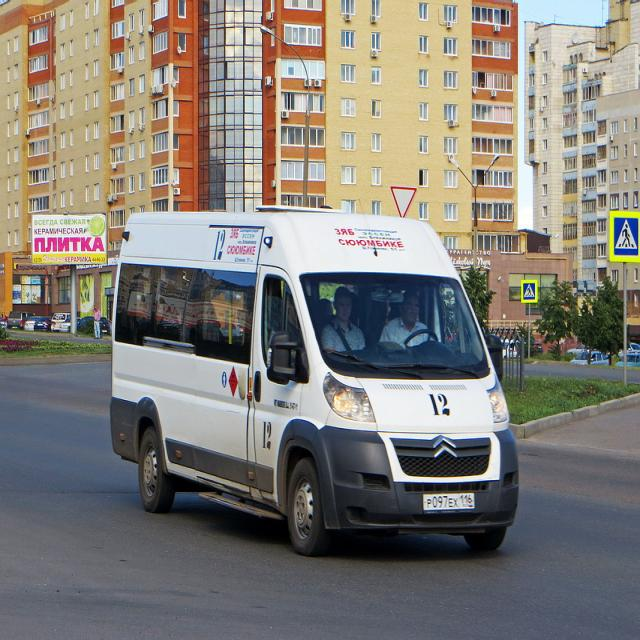number-of-bus: (428, 390, 454, 421), (214, 229, 227, 264)
